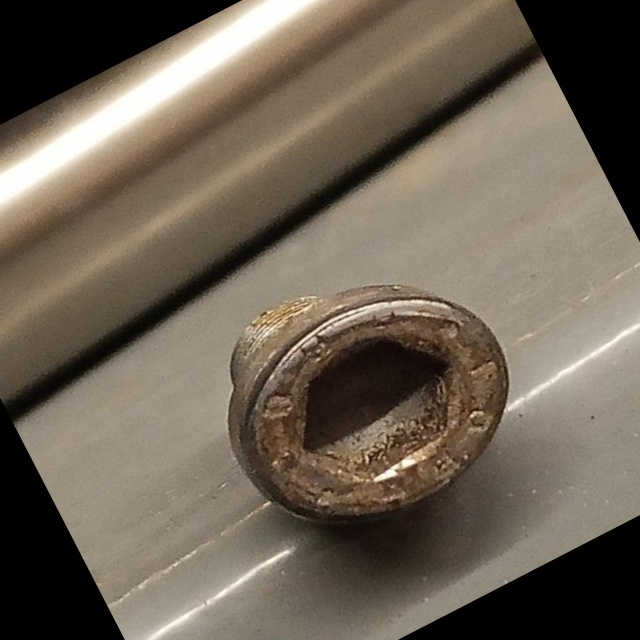allen: (191, 241, 546, 567)
